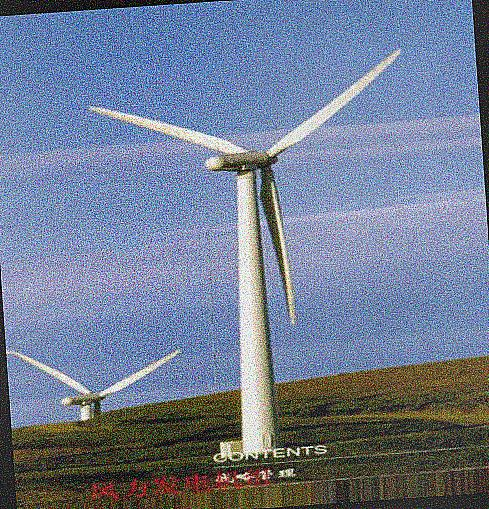wind turbine: (88, 49, 403, 446)
